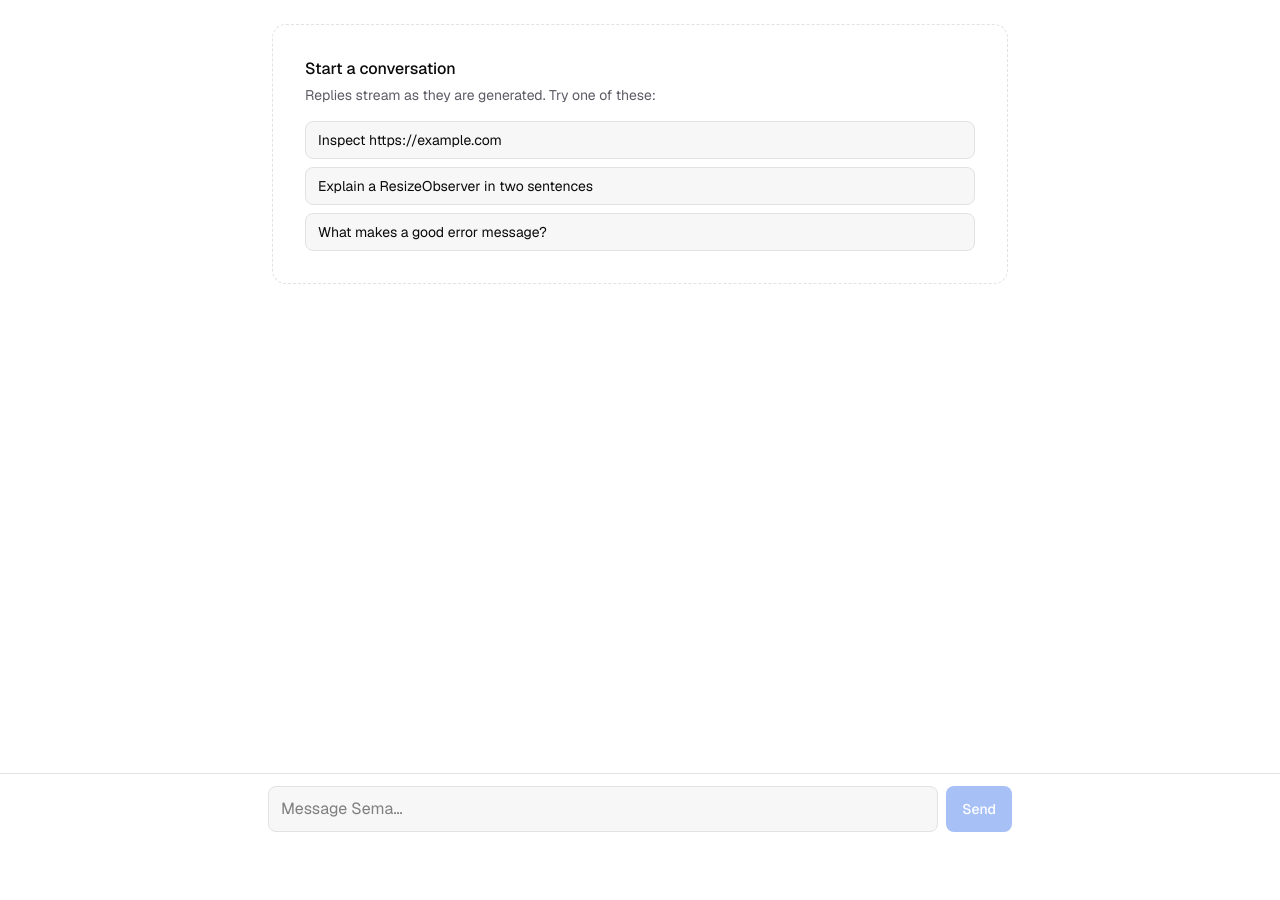
Test: Chat — empty state › offers click-to-fill prompts rather than an apology
This screenshot has width=1280, height=900.
Expected: the text "Start a conversation" is shown, x1=305 y1=58 x2=456 y2=79
Click the button "Inspect https://example.com" at (410, 140), box x1=305 y1=121 x2=975 y2=159
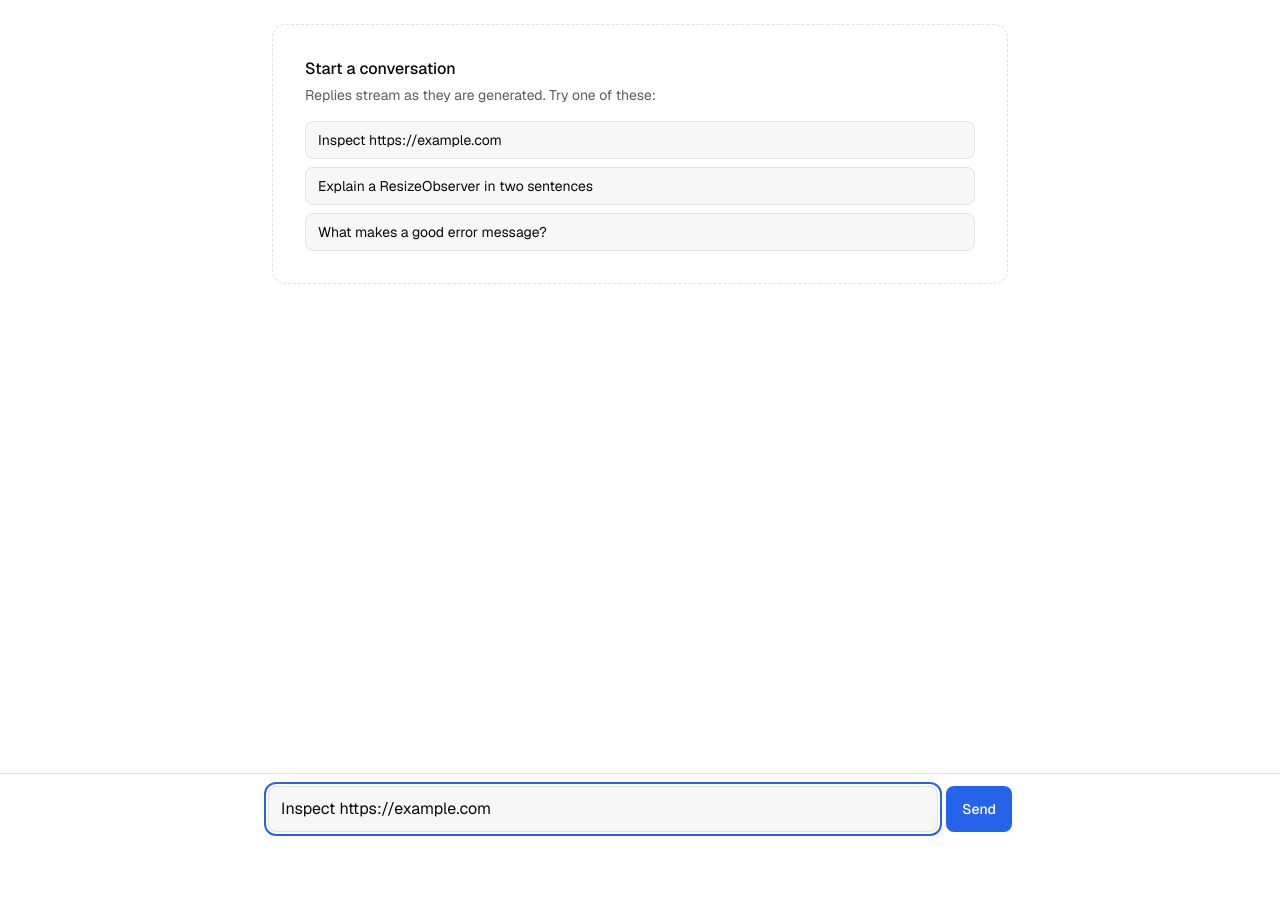
Result: the field named "Message Sema" holds "Inspect https://example.com" at x1=268 y1=786 x2=938 y2=832
